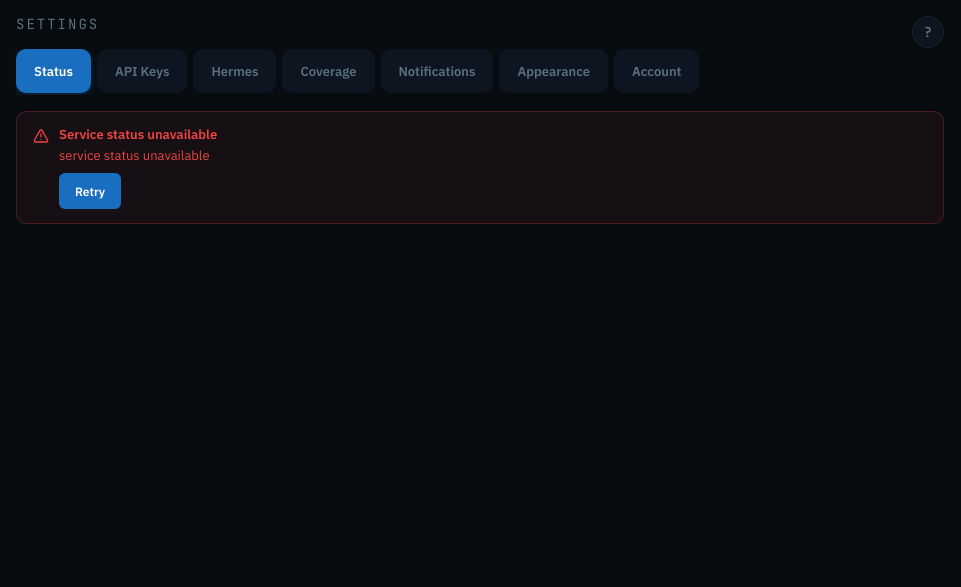
Test: Settings Status tab async data › shows an error state on failure and refetches on retry
This screenshot has width=961, height=587.
expect the text "service status unavailable" is shown: met, box [59,147,210,164]
Click the button "Retry".
click(90, 191)  # box [59,173,121,209]
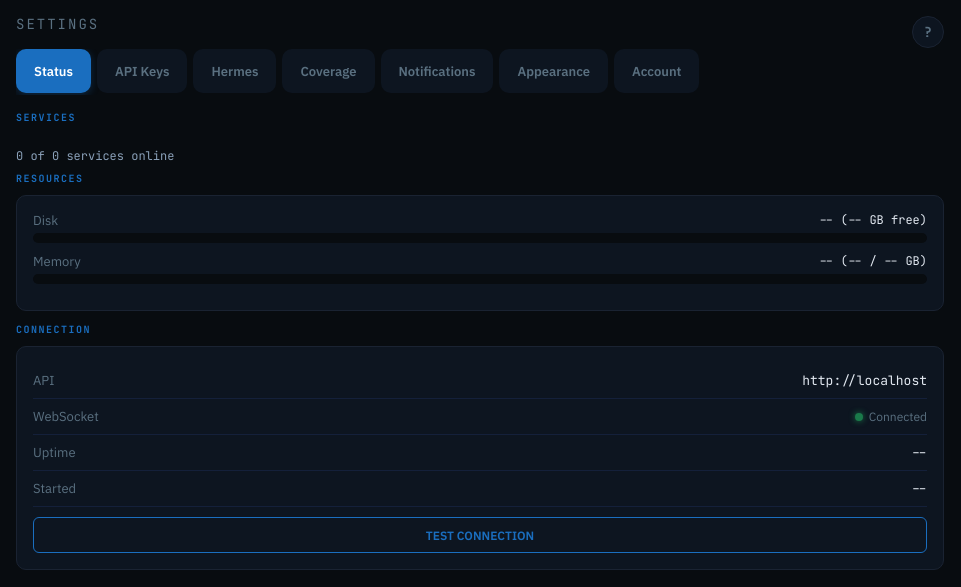
expect the text "Service status unavailable" is gone: met
